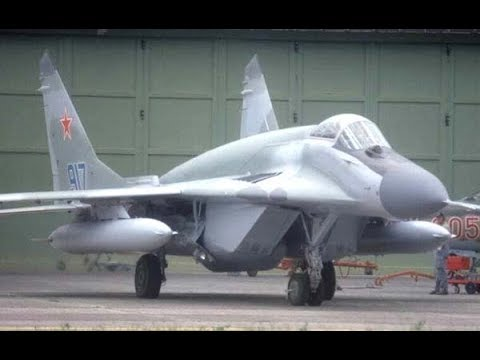Mig-29: (20, 40, 468, 308)
